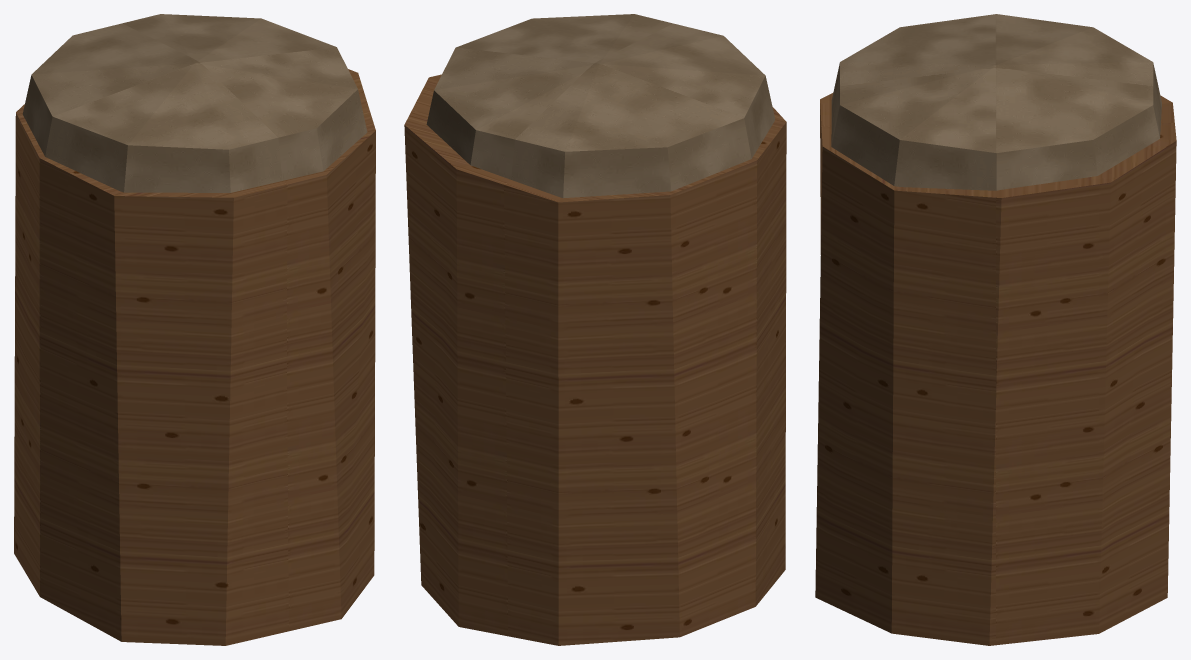
The model's file is gabion_tur.glb.
3 renders of one model, left to right at view 1: azimuth 30°, elevation 25°; view 2: azimuth 150°, elevation 25°; view 3: azimuth 270°, elevation 25°, orthographic.
Parts seen in each view (by area): view 1: Gabion_Tur; view 2: Gabion_Tur; view 3: Gabion_Tur.
Part boxes in pixels (bbox=[...]): Gabion_Tur: bbox=[14, 14, 375, 645]; Gabion_Tur: bbox=[404, 14, 786, 645]; Gabion_Tur: bbox=[815, 14, 1176, 645].
Bounding box in the file's own units: 0.9028 × 1.36 × 0.8775.
Materials: 2 (2 with a texture image).
